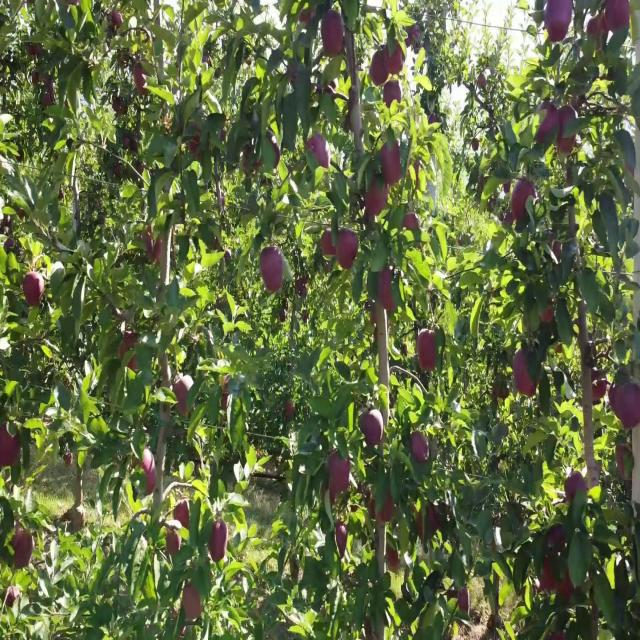apple: (164, 504, 192, 555), (544, 0, 573, 43), (132, 447, 157, 496), (616, 383, 640, 432), (516, 348, 538, 398), (260, 248, 284, 293), (556, 106, 577, 156), (380, 142, 404, 185), (364, 177, 388, 220), (604, 0, 632, 36), (12, 526, 35, 569), (512, 184, 537, 222), (416, 504, 441, 542), (0, 426, 21, 469), (324, 14, 345, 57), (328, 455, 352, 492), (536, 106, 559, 144), (372, 490, 396, 526), (308, 135, 331, 171), (164, 520, 187, 555), (120, 334, 140, 373), (184, 583, 203, 622), (340, 234, 360, 270), (364, 412, 384, 448), (208, 526, 228, 562), (380, 270, 396, 313), (172, 376, 188, 418), (328, 476, 351, 505), (564, 476, 588, 503), (144, 227, 162, 263), (420, 334, 437, 370), (372, 49, 388, 87), (24, 277, 44, 306), (384, 78, 403, 108), (412, 433, 430, 464), (388, 42, 404, 76), (420, 341, 437, 373), (616, 447, 631, 482), (588, 14, 607, 41), (548, 526, 567, 553), (540, 561, 556, 592), (560, 568, 576, 599), (592, 376, 608, 404), (244, 149, 261, 174), (608, 383, 623, 411), (452, 590, 470, 613), (320, 234, 337, 258), (336, 519, 348, 553), (176, 504, 192, 528), (168, 526, 181, 555), (136, 63, 148, 94), (540, 305, 556, 327), (188, 135, 201, 162), (300, 7, 316, 28), (388, 547, 400, 574), (404, 213, 420, 233), (548, 241, 563, 261), (224, 376, 232, 409), (288, 63, 299, 87), (408, 28, 420, 48), (328, 483, 338, 507), (112, 14, 124, 32), (272, 142, 280, 169), (124, 135, 137, 151), (116, 99, 127, 114), (504, 213, 515, 228), (288, 405, 296, 420)
